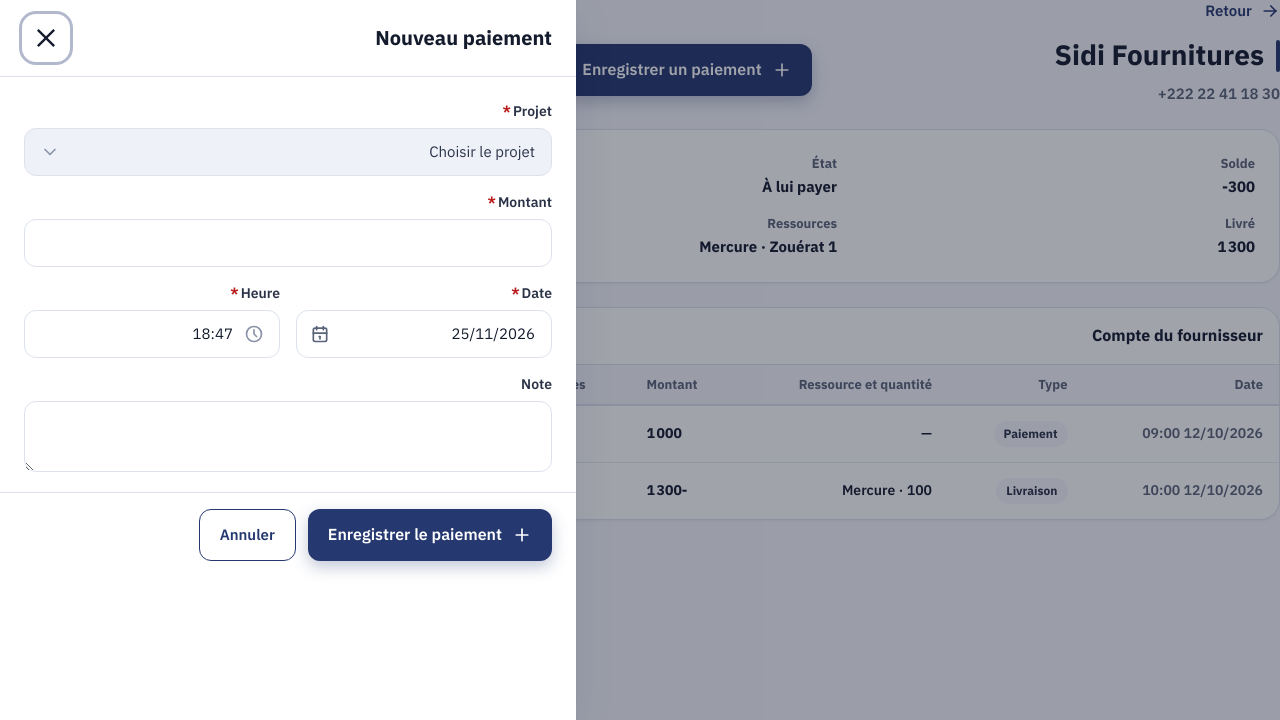
SupplierScreen › refuses a payment of zero
The image size is (1280, 720).
Type "0" into the number field labelled "Montant".
click(288, 243); type("0")  # box top-left (24, 219), bottom-right (552, 267)
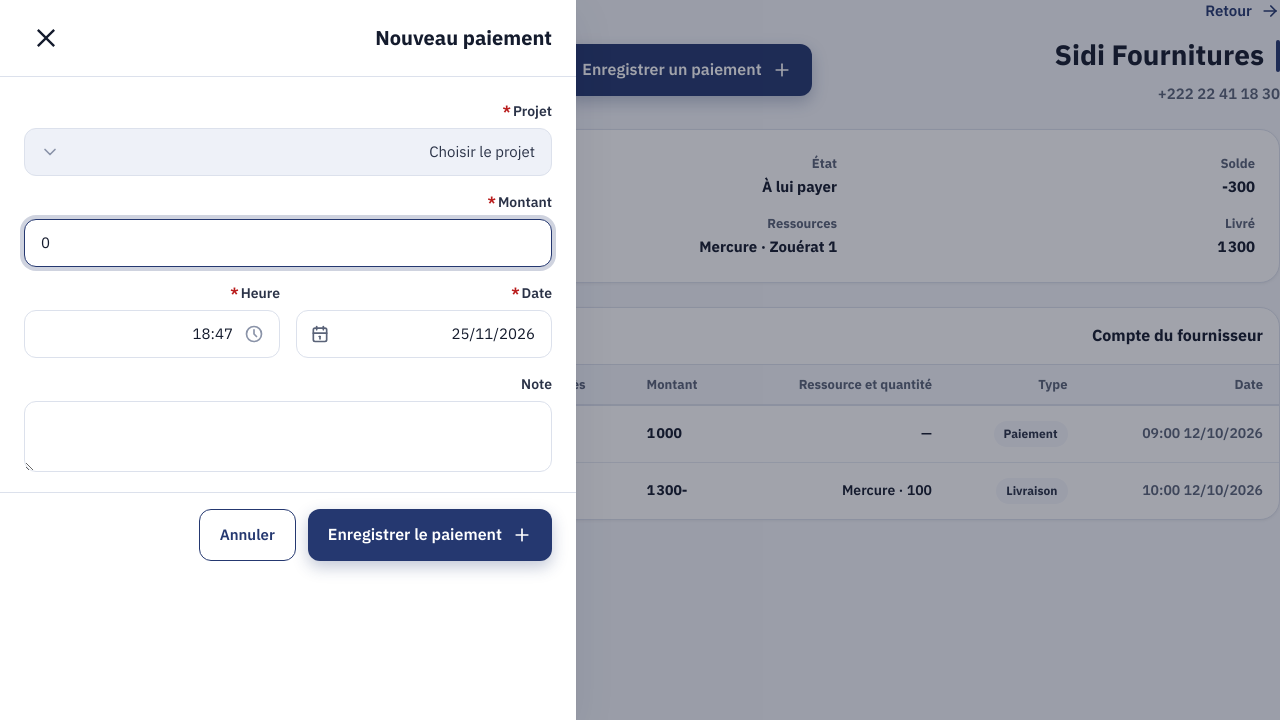
Click the button "Enregistrer le paiement".
click(430, 535)  # box top-left (308, 509), bottom-right (552, 561)
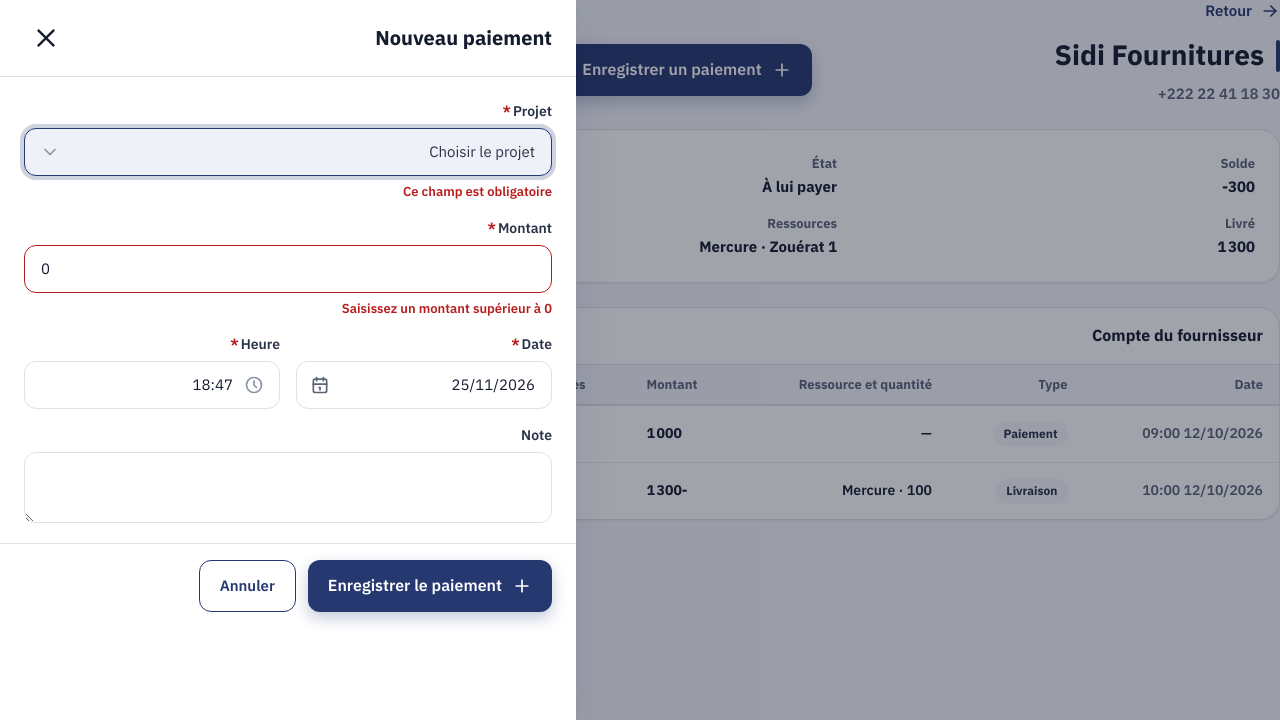
Now the text "Saisissez un montant supérieur à 0" is shown, box top-left (342, 298), bottom-right (552, 318)
Now the text "Ce champ est obligatoire" is shown, box top-left (403, 182), bottom-right (552, 201)
